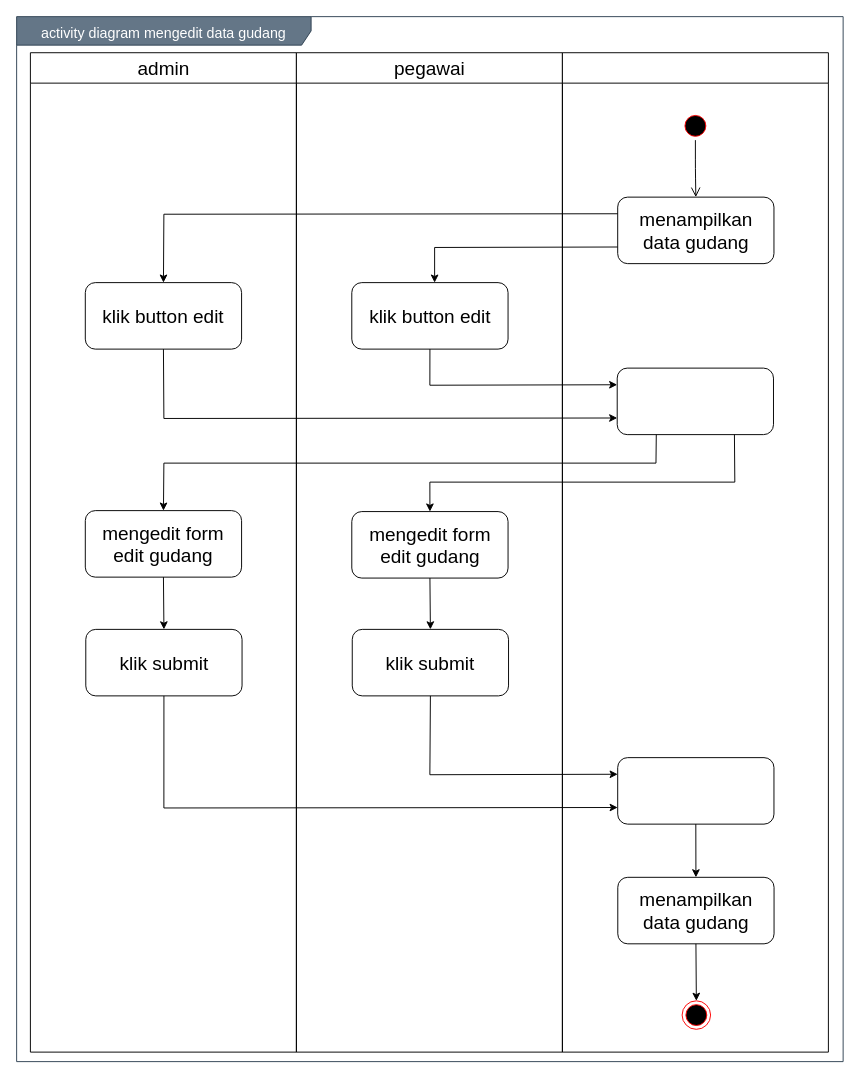
Image size: 860x1078. Some labels were removed from this diagram. Here are the shapes that lost their labels. From the top down, the box of each, then its label:
(616, 367, 773, 435): menampilkan form edit gudang
(561, 52, 828, 1052): sistem
(617, 757, 774, 824): menyimpan ke database
